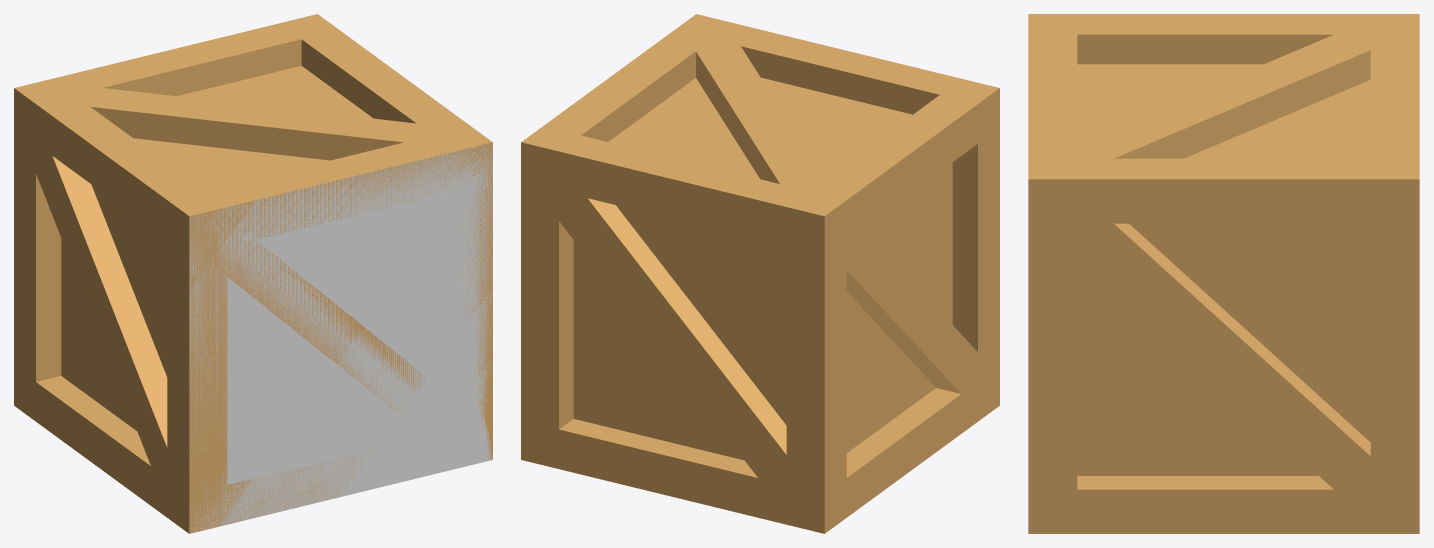
The picture shows the model from 3 angles, left to right: view 1: azimuth 30°, elevation 25°; view 2: azimuth 150°, elevation 25°; view 3: azimuth 270°, elevation 25°; orthographic projection. The views are drawn at different scales.
Visible parts, largest first — view 1: box, box-col; view 2: box; view 3: box.
Part boxes in pixels (x1,y1,x2,y2): box: [14, 14, 492, 533]; box-col: [189, 142, 492, 532]; box: [521, 14, 999, 533]; box: [1028, 14, 1419, 533].
Size of the model in its own units: 1.2 by 1.2 by 1.2.
